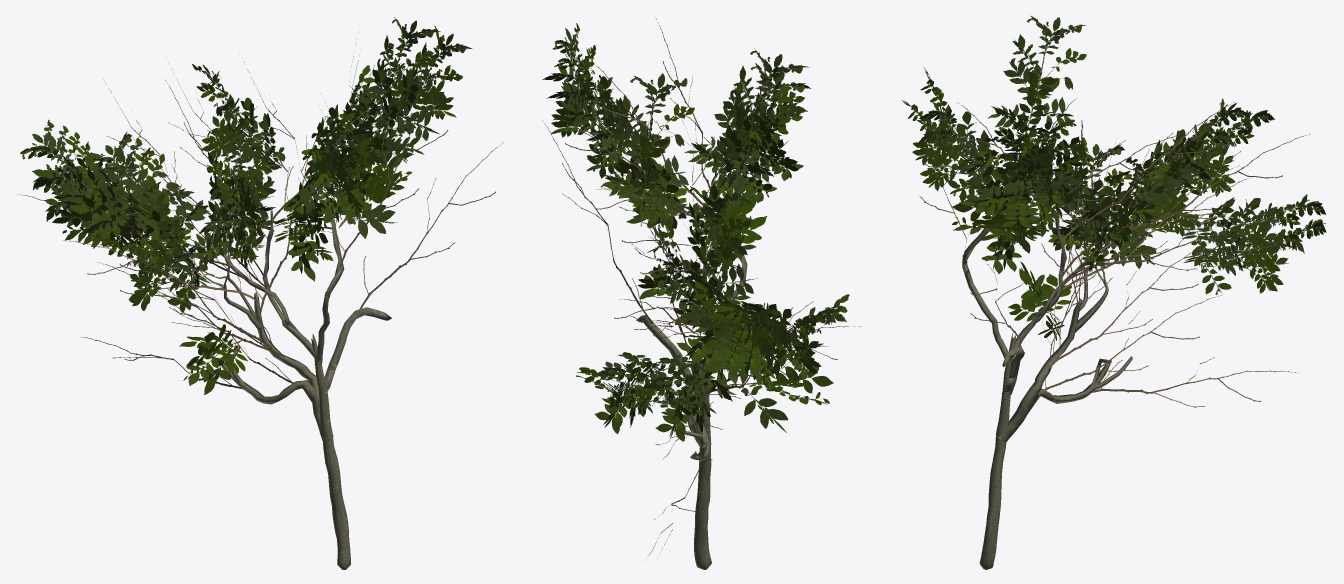
Rendered from Tree.FBX.
The picture shows the model from 3 angles, left to right: view 1: azimuth 30°, elevation 25°; view 2: azimuth 150°, elevation 25°; view 3: azimuth 270°, elevation 25°; orthographic projection. The views are drawn at different scales.
Visible parts, largest first — view 1: SM_AshTree_A_ExtraSmallBranch_Master; view 2: SM_AshTree_A_ExtraSmallBranch_Master; view 3: SM_AshTree_A_ExtraSmallBranch_Master.
Boxes of the visible parts, x1=… form: SM_AshTree_A_ExtraSmallBranch_Master: x1=16, y1=17, x2=503, y2=569; SM_AshTree_A_ExtraSmallBranch_Master: x1=542, y1=18, x2=860, y2=569; SM_AshTree_A_ExtraSmallBranch_Master: x1=901, y1=15, x2=1326, y2=569.
Size of the model in its own units: 156 by 199 by 156.
